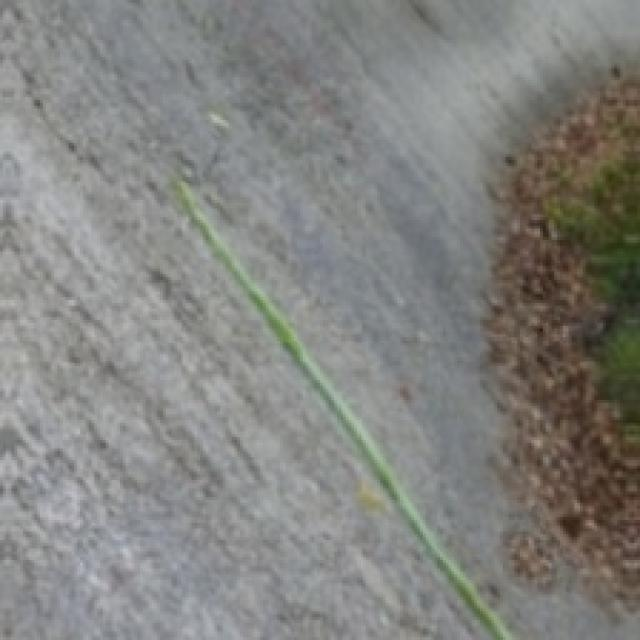red-tailed green ratsnake: (171, 177, 514, 637)
